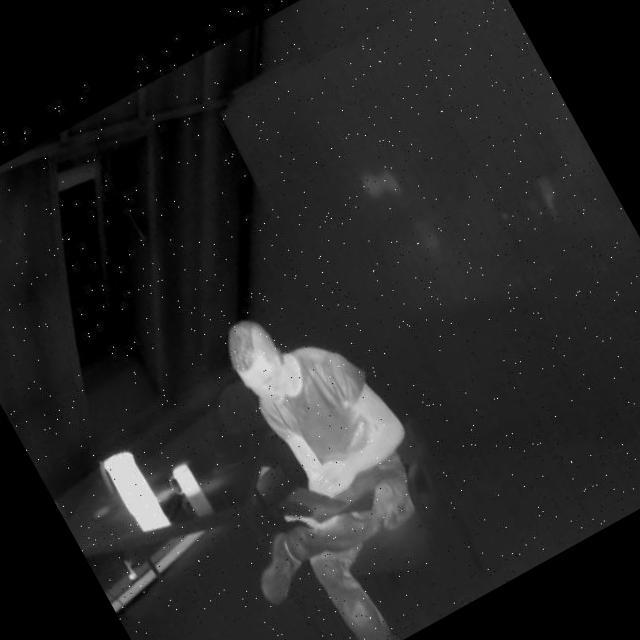person: (133, 267, 498, 640)
